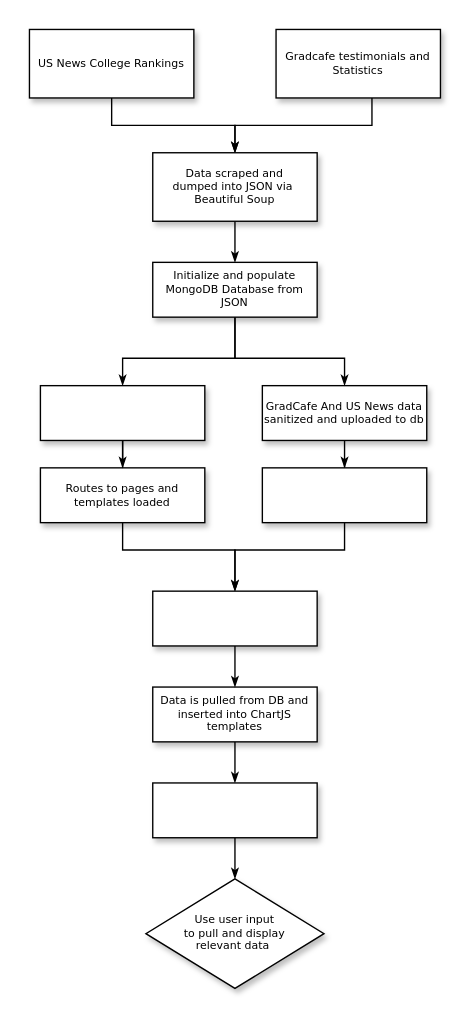
This 473x1022 diagram has some shape labels left out. Here are the shapes that lost their labels. From the top down, the centre of each, then its label:
the point at 123,414: Flask application initialized and runs
the point at 345,496: Separate collection with sanitized and compiled data created
the point at 235,620: CRUD operations performed via PyMongo
the point at 235,811: Charts and information served as an informative dynamic webpage
